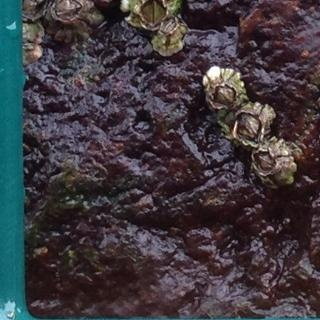Barnacle: (235, 110, 263, 143), (50, 0, 83, 23), (138, 0, 166, 27), (213, 82, 241, 108), (256, 149, 277, 171), (161, 15, 180, 36)
